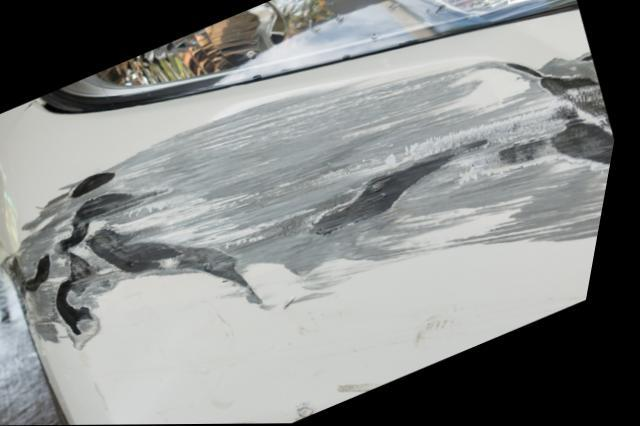scratch: (7, 50, 620, 356), (235, 380, 404, 424)
